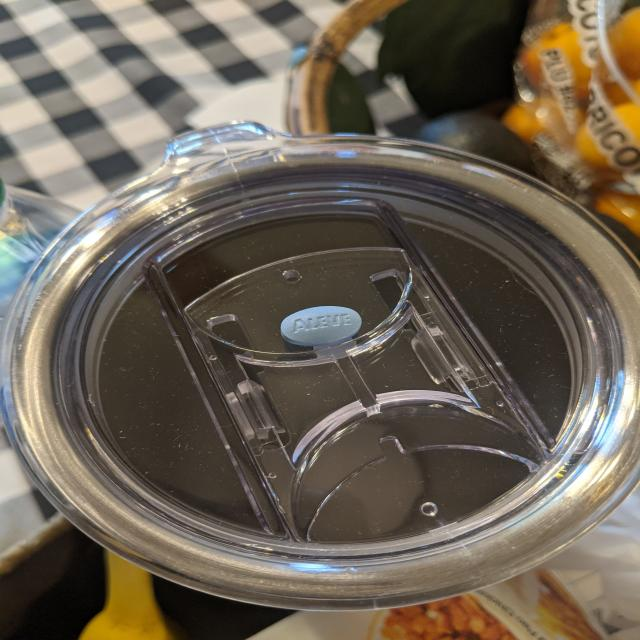non-organic waste: (279, 305, 363, 347)
